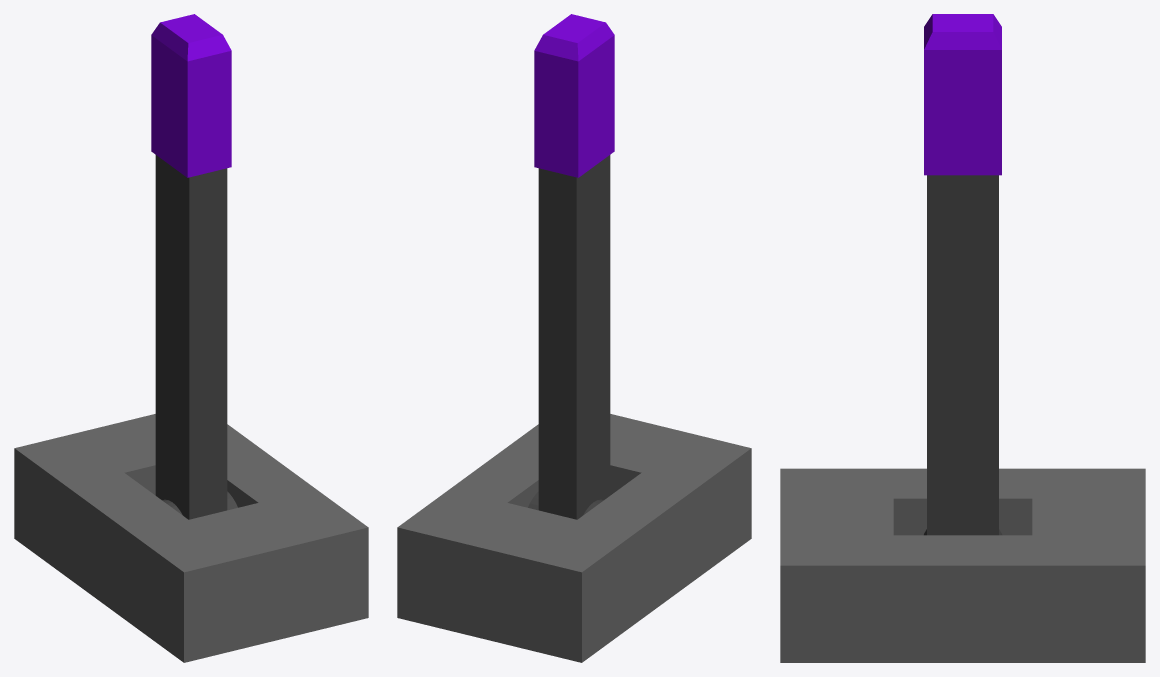
Rendered from PurpleLeverWB.glb.
3 views of the same model, side by side, from view 1: azimuth 30°, elevation 25°; view 2: azimuth 150°, elevation 25°; view 3: azimuth 270°, elevation 25° (orthographic). The views are drawn at different scales.
Visible parts, largest first — view 1: Base, Handle, Top; view 2: Base, Handle, Top; view 3: Base, Handle, Top.
Part boxes in pixels (<box>): Base: <box>14,414,368,662</box>; Handle: <box>155,155,237,519</box>; Top: <box>151,14,231,177</box>; Base: <box>397,414,751,662</box>; Handle: <box>528,155,610,519</box>; Top: <box>534,14,614,177</box>; Base: <box>780,468,1145,662</box>; Handle: <box>924,175,1001,535</box>; Top: <box>924,14,1001,175</box>.
Bounding box in the file's own units: 0.38 × 1.08 × 0.6054.
